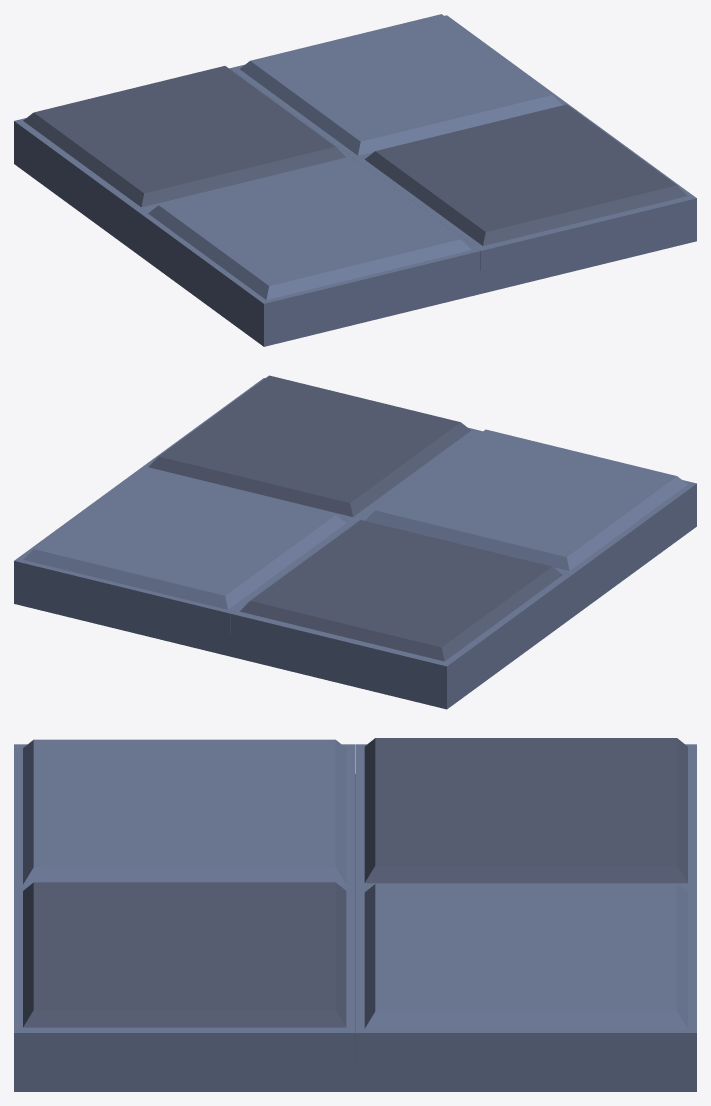
Rendered from floor-001.glb.
3 views of the same model, one above another, from view 1: azimuth 30°, elevation 25°; view 2: azimuth 150°, elevation 25°; view 3: azimuth 270°, elevation 25° (orthographic). The views are drawn at different scales.
Parts seen in each view (by area): view 1: floor.001; view 2: floor.001; view 3: floor.001.
Boxes of the visible parts, x1=… form: floor.001: x1=14, y1=14, x2=696, y2=346; floor.001: x1=14, y1=375, x2=696, y2=709; floor.001: x1=14, y1=738, x2=696, y2=1091.
Bounding box in the file's own units: 2 × 0.2371 × 2.
